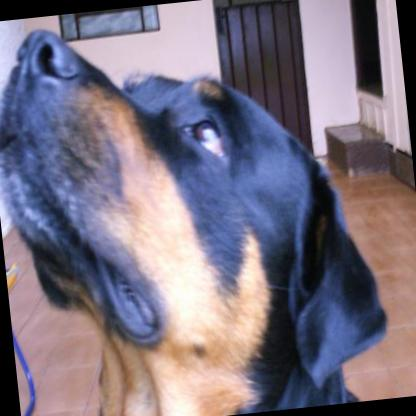Rottweiler: (0, 0, 394, 416)
